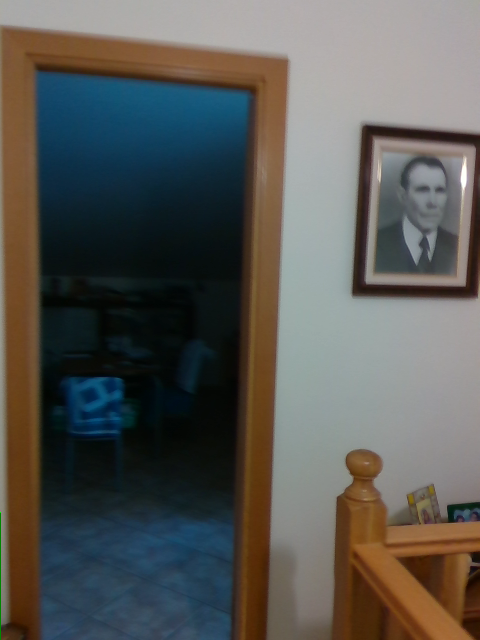open: (3, 22, 289, 639)
